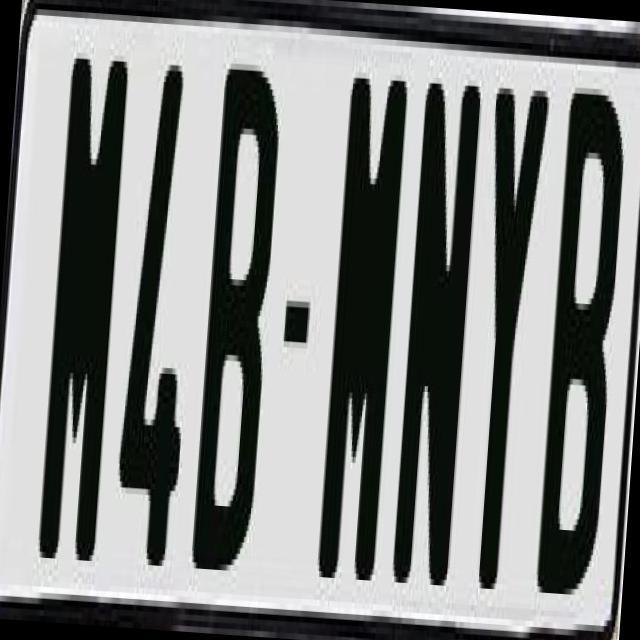4: (110, 58, 212, 572)
B: (185, 68, 288, 601), (532, 75, 635, 602)
M: (32, 40, 132, 579), (313, 77, 406, 610)
N: (388, 76, 482, 580)
Y: (456, 87, 550, 608)
